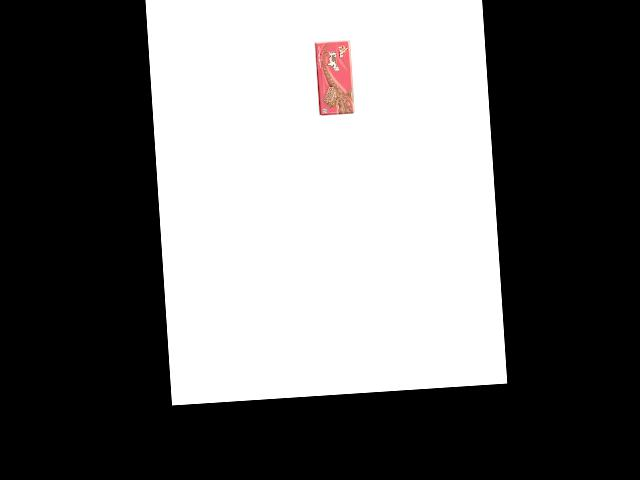chocolate: (310, 37, 356, 117)
